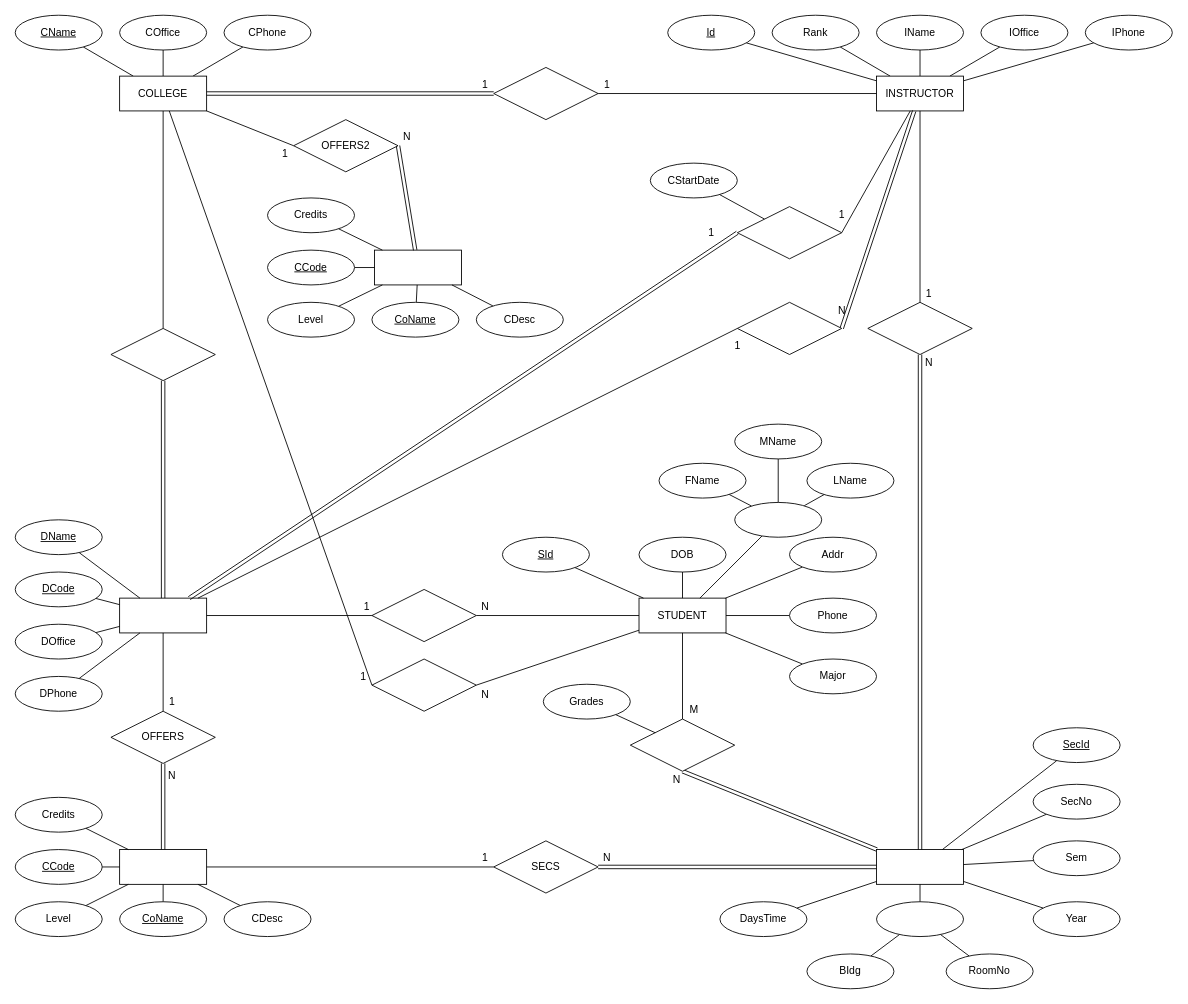
This 1188x1004 diagram has some shape labels left out. Here are the shapes that lost their labels. From the top down, the box of each, then its label:
(493, 67, 598, 120): DEAN
(736, 206, 842, 259): CHAIR
(374, 249, 462, 285): COURSE2
(736, 301, 842, 355): EMPLOYS
(867, 301, 972, 355): TEACHES
(110, 328, 215, 381): ADMINS
(734, 502, 822, 537): SName
(119, 597, 207, 633): DEPT
(371, 589, 476, 642): HAS
(371, 658, 476, 711): HAS2
(629, 718, 735, 771): TAKES
(119, 849, 207, 884): COURSE
(876, 849, 964, 884): SECTION
(876, 901, 964, 937): CRoom
